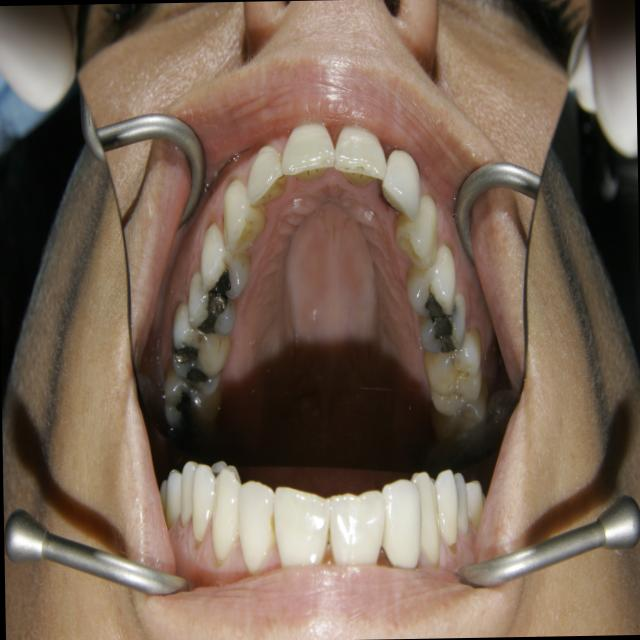tooth: (413, 312, 492, 423), (324, 101, 398, 204), (165, 297, 233, 398), (154, 357, 230, 447), (385, 185, 455, 278), (217, 168, 276, 267), (428, 375, 498, 453), (408, 280, 476, 360), (196, 216, 257, 305), (276, 109, 342, 190), (398, 247, 466, 325), (375, 138, 431, 232), (185, 261, 242, 348), (243, 132, 290, 210)
